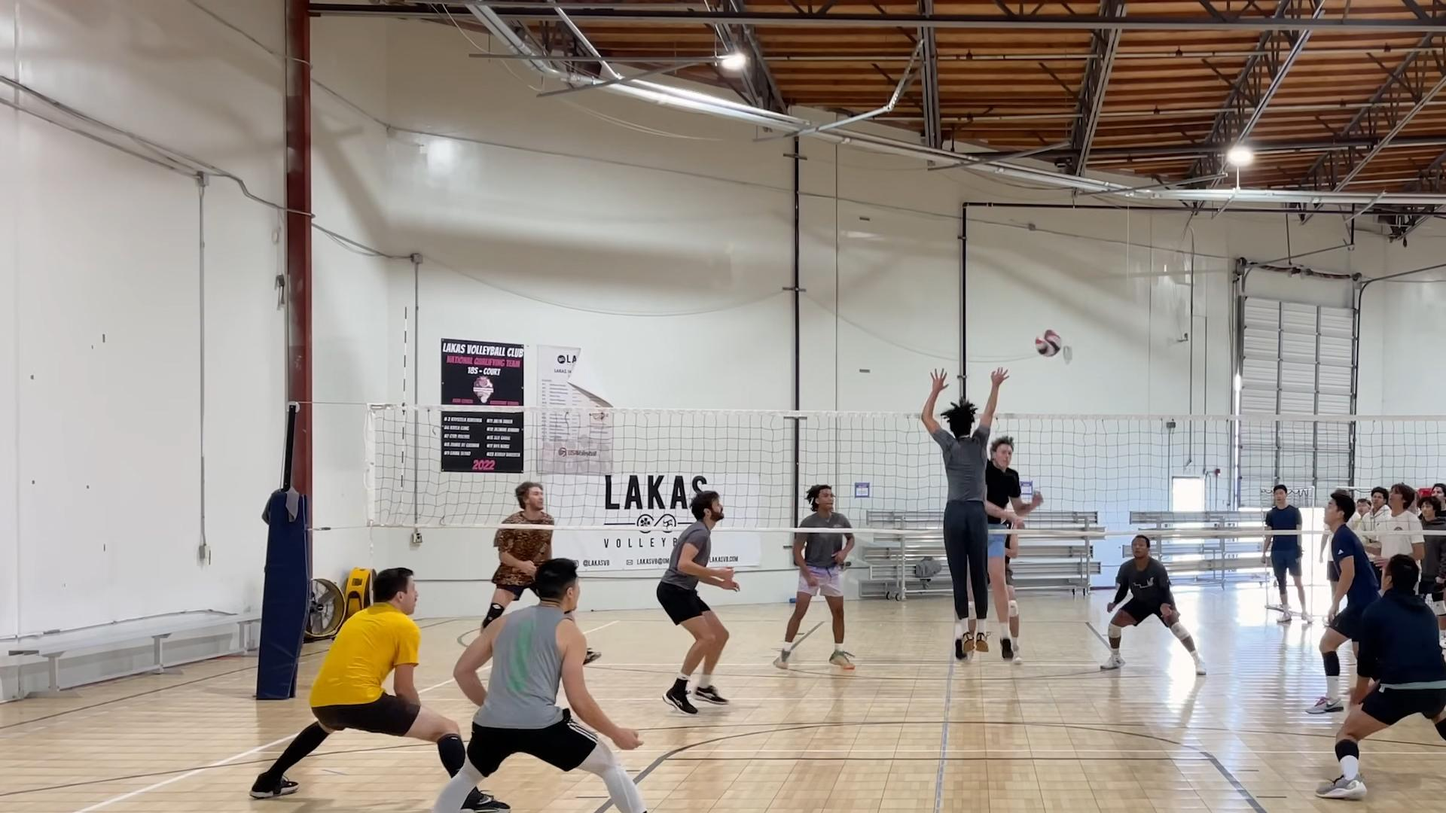attacco: (982, 434, 1042, 666)
muro: (918, 362, 1009, 660)
